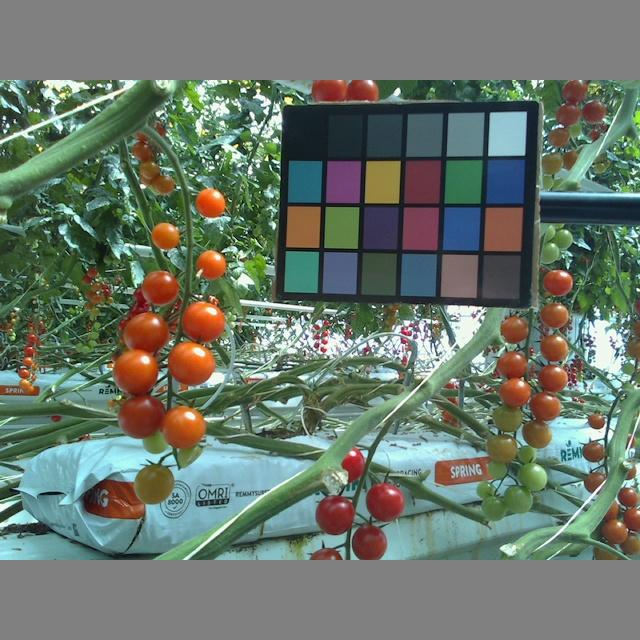green: (135, 467, 173, 506), (486, 435, 522, 465), (492, 404, 525, 433), (515, 467, 546, 489), (481, 496, 504, 519), (527, 424, 552, 445), (506, 488, 530, 509), (539, 154, 563, 174), (487, 462, 509, 479), (480, 481, 496, 495), (520, 446, 533, 461)
pink: (166, 342, 218, 386), (121, 312, 170, 350), (179, 299, 226, 338), (110, 351, 157, 389), (163, 407, 205, 447), (121, 395, 163, 434), (143, 269, 183, 307), (192, 186, 227, 219), (542, 267, 576, 299), (194, 250, 223, 280), (539, 301, 568, 330), (151, 221, 180, 250), (552, 101, 583, 128), (502, 347, 528, 377), (539, 369, 568, 395), (600, 519, 631, 543), (562, 81, 591, 106), (532, 396, 562, 420), (129, 140, 159, 164), (500, 316, 525, 343), (581, 97, 605, 125), (500, 381, 528, 404), (542, 336, 567, 361), (583, 471, 609, 495), (151, 172, 177, 195), (581, 438, 604, 463), (543, 126, 570, 147), (618, 486, 640, 509), (621, 528, 640, 554), (625, 506, 640, 533), (138, 161, 160, 179), (587, 412, 604, 429)
red: (365, 484, 407, 523), (320, 494, 354, 533), (352, 527, 387, 555)
